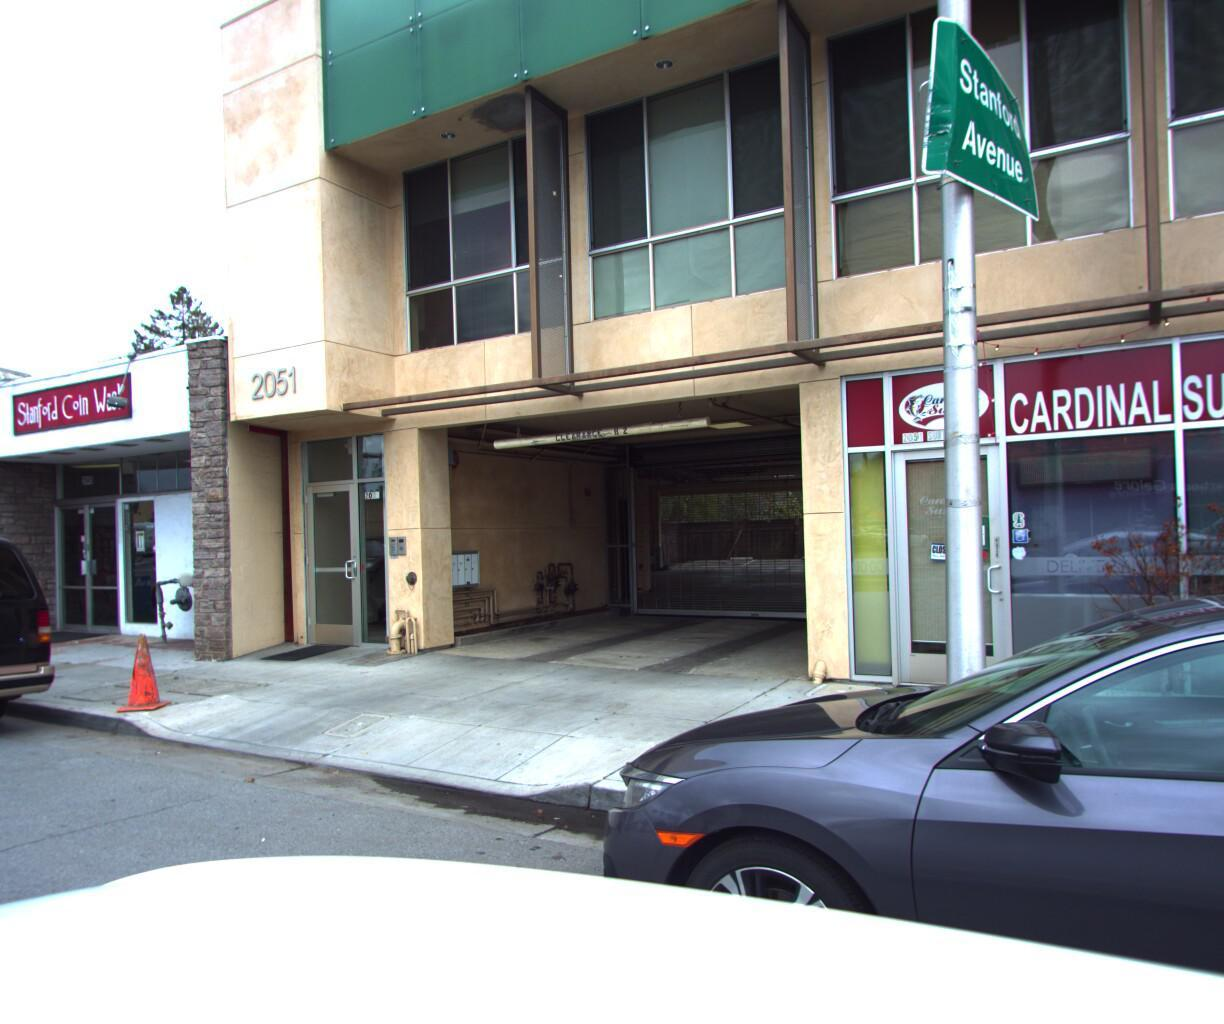car: (518, 526, 1224, 1024), (0, 510, 85, 796)
